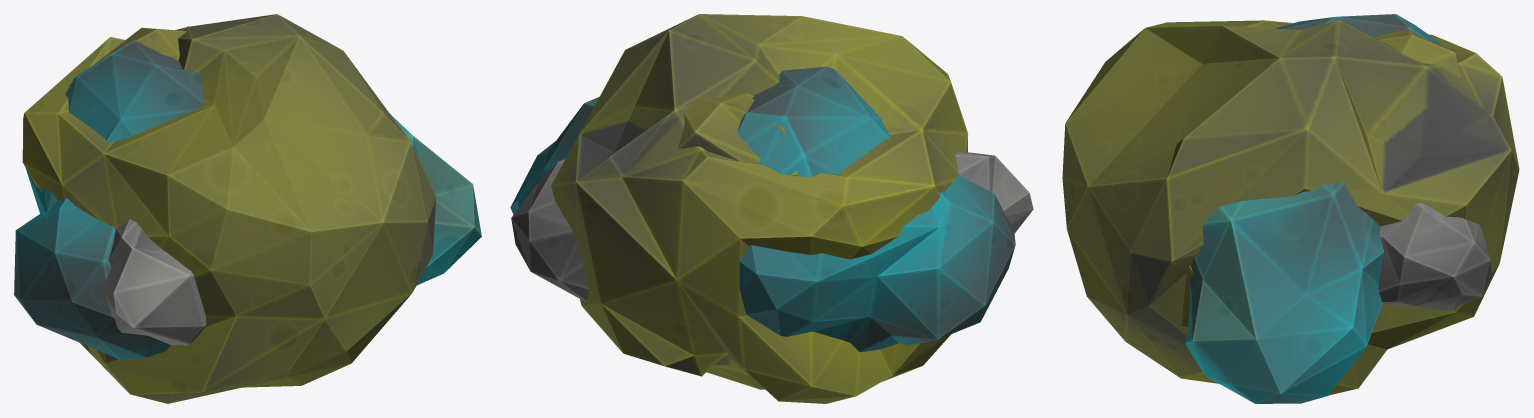
Rendered from asteroidaseli.fbx.
3 renders of one model, left to right at view 1: azimuth 30°, elevation 25°; view 2: azimuth 150°, elevation 25°; view 3: azimuth 270°, elevation 25°, orthographic. The views are drawn at different scales.
Visible parts, largest first — view 1: Asteroids_Mesh.013, Asteroids_Mesh.008, Asteroids_Mesh.011, Asteroids_Mesh.010; view 2: Asteroids_Mesh.013, Asteroids_Mesh.008, Asteroids_Mesh.011, Asteroids_Mesh.010; view 3: Asteroids_Mesh.013, Asteroids_Mesh.008, Asteroids_Mesh.011, Asteroids_Mesh.010.
Part boxes in pixels (bbox=[...]): Asteroids_Mesh.013: bbox=[22, 14, 436, 403]; Asteroids_Mesh.008: bbox=[14, 40, 481, 360]; Asteroids_Mesh.011: bbox=[103, 219, 206, 345]; Asteroids_Mesh.010: bbox=[69, 27, 186, 86]; Asteroids_Mesh.013: bbox=[551, 14, 968, 403]; Asteroids_Mesh.008: bbox=[510, 66, 1015, 352]; Asteroids_Mesh.011: bbox=[511, 151, 1033, 301]; Asteroids_Mesh.010: bbox=[678, 93, 797, 176]; Asteroids_Mesh.013: bbox=[1062, 20, 1519, 395]; Asteroids_Mesh.008: bbox=[1185, 14, 1441, 403]; Asteroids_Mesh.011: bbox=[1378, 203, 1492, 311]; Asteroids_Mesh.010: bbox=[1181, 19, 1460, 331].
Bounding box in the file's own units: 808 × 554 × 656.
1 material, 1 textured.
